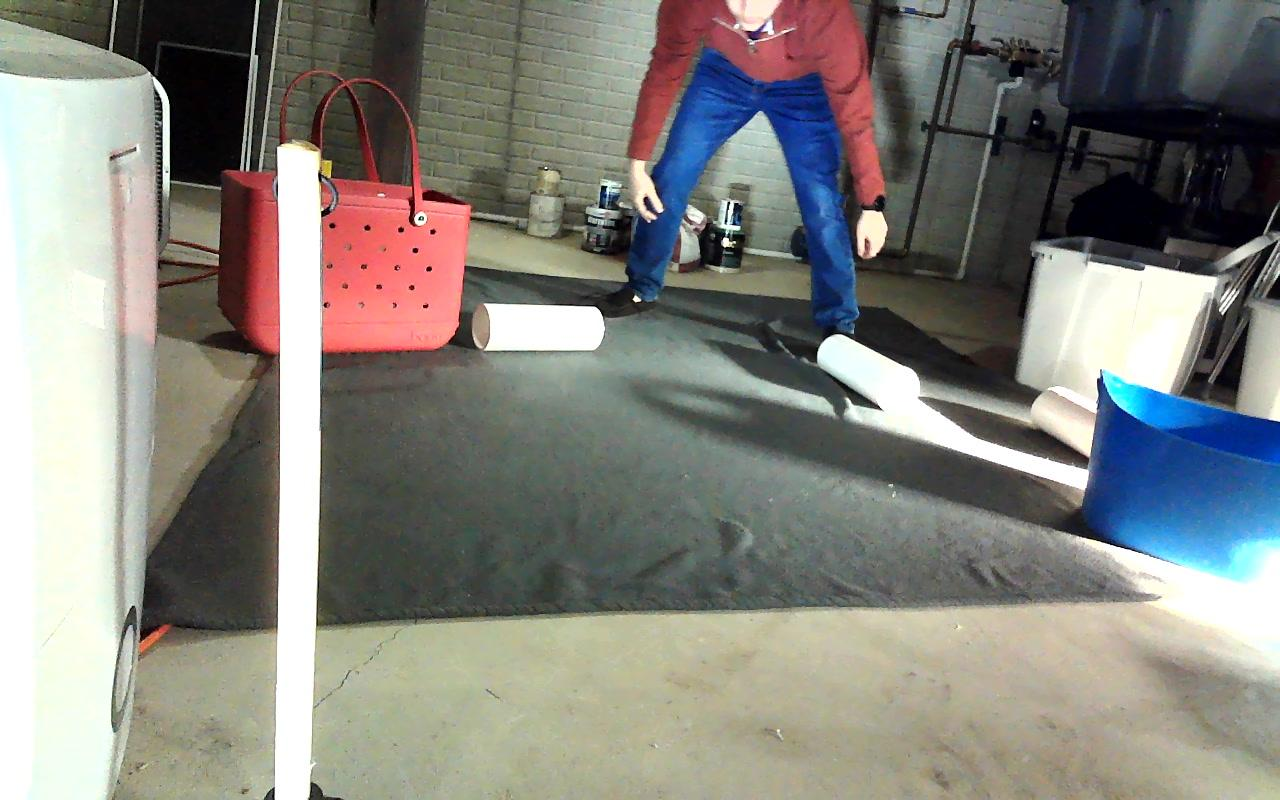coral: (818, 335, 920, 412), (472, 303, 601, 351)
